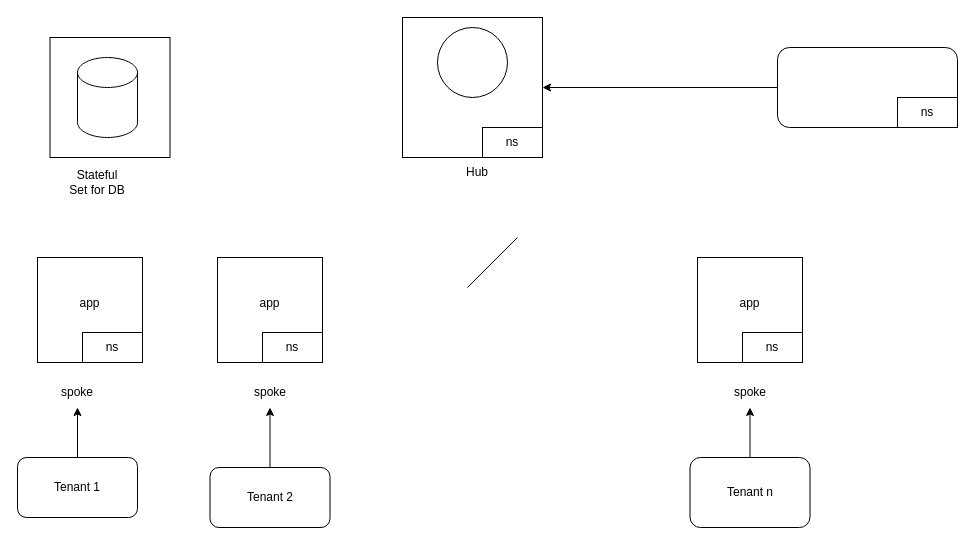
This 975x545 diagram has some shape labels left out. The shapes that lost their labels are listed below. From the top down, each one's box as (x1, y1, x2, y2) in pixels, then its label:
(436, 26, 508, 98): argocd
(776, 46, 958, 128): Monitoring and logging
